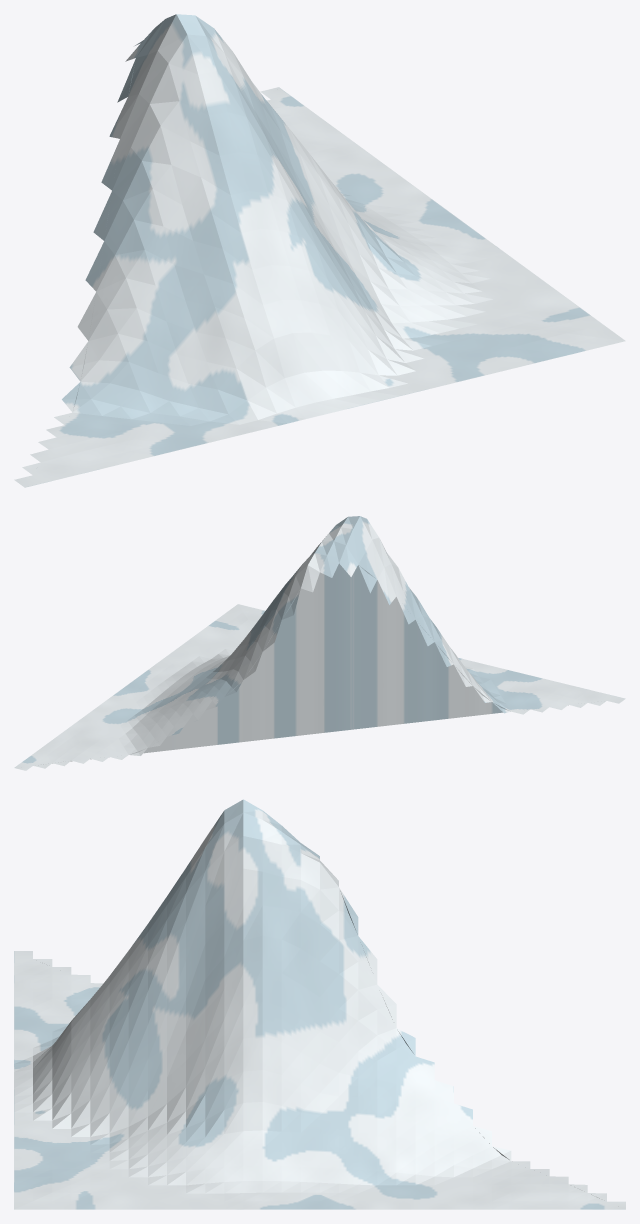
Rendered from Snow_Mountains_07_NE.obj.
The picture shows the model from 3 angles, top to bottom: view 1: azimuth 30°, elevation 25°; view 2: azimuth 150°, elevation 25°; view 3: azimuth 270°, elevation 25°; orthographic projection. The views are drawn at different scales.
Size of the model in its own units: 10 by 4.92 by 10.
Materials: 1 (1 with a texture image).
